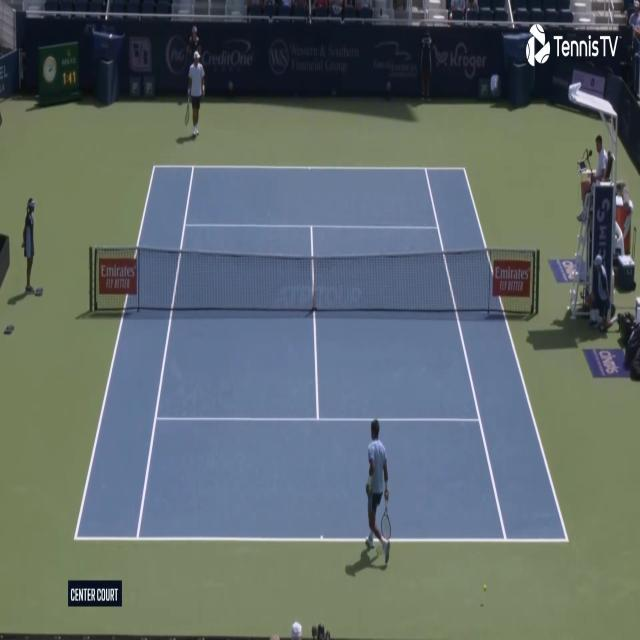tennis-player: (361, 415, 394, 571), (183, 50, 206, 139)
